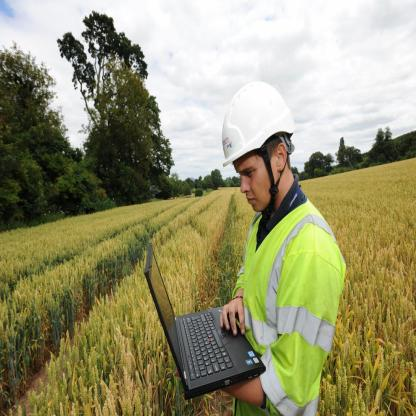board: (145, 240, 265, 398)
